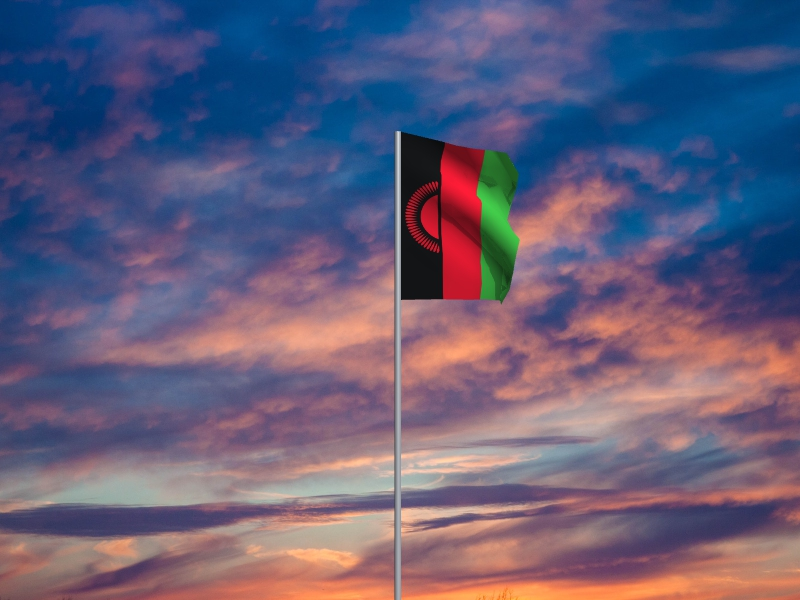mw: (401, 133, 521, 305)
